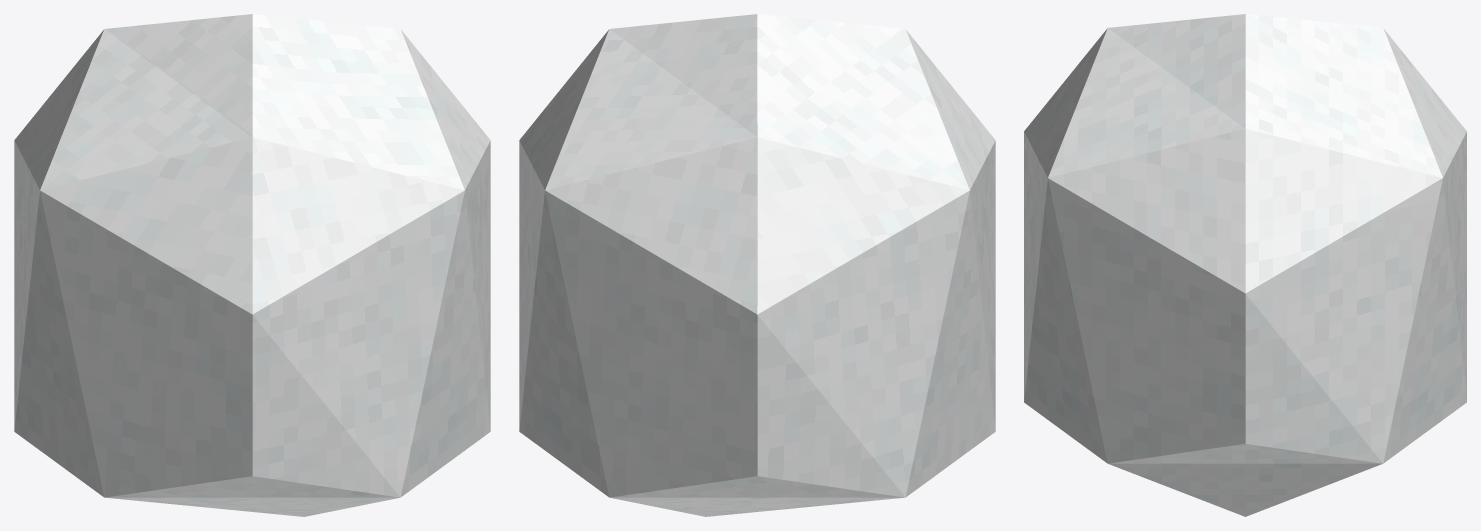
File: Snowball.glb
3 views of the same model, side by side, from view 1: azimuth 30°, elevation 25°; view 2: azimuth 150°, elevation 25°; view 3: azimuth 270°, elevation 25° (orthographic). The views are drawn at different scales.
Parts seen in each view (by area): view 1: Snowball; view 2: Snowball; view 3: Snowball.
Part boxes in pixels (box(x1,y1,x2,y2)): Snowball: box(14, 14, 490, 516); Snowball: box(519, 14, 995, 516); Snowball: box(1024, 14, 1466, 516).
Bounding box in the file's own units: 0.3618 × 0.3956 × 0.3312.
1 material, 1 textured.
